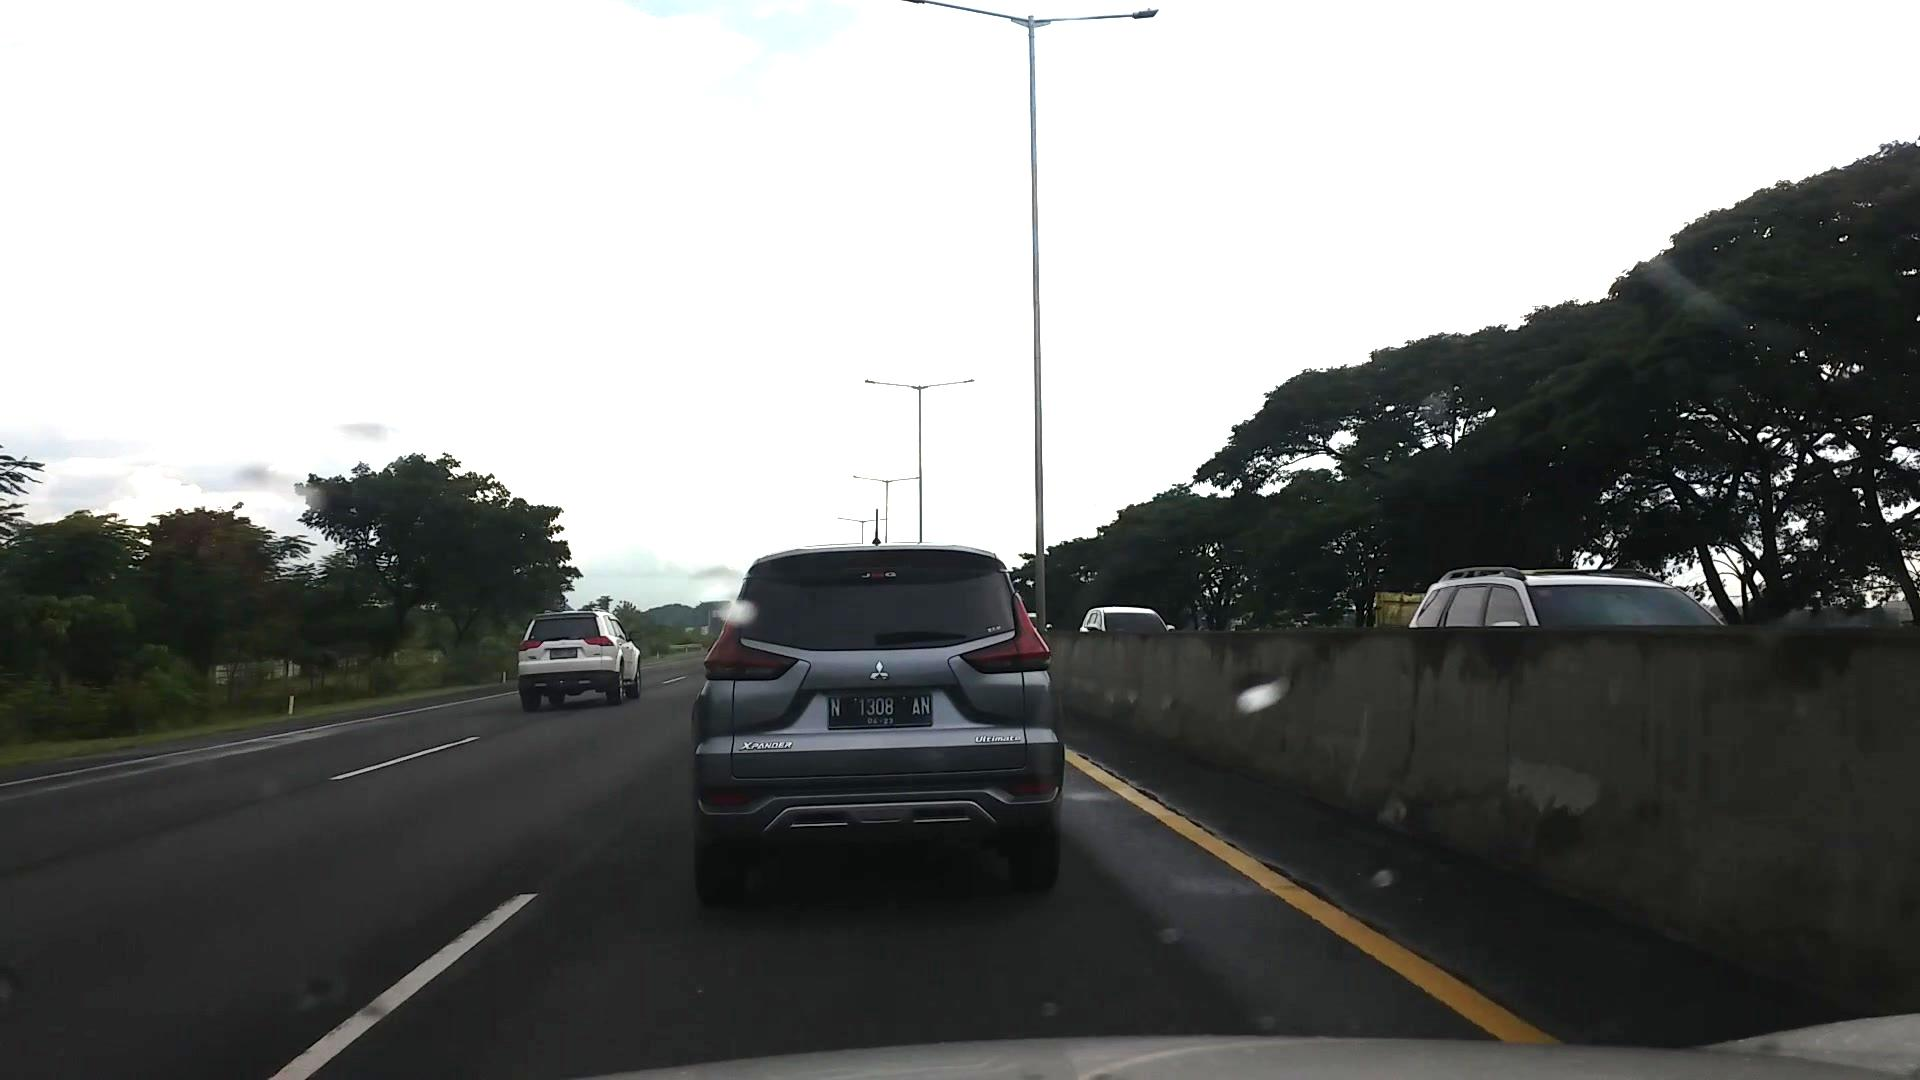plate_positive: (827, 694, 932, 729)
